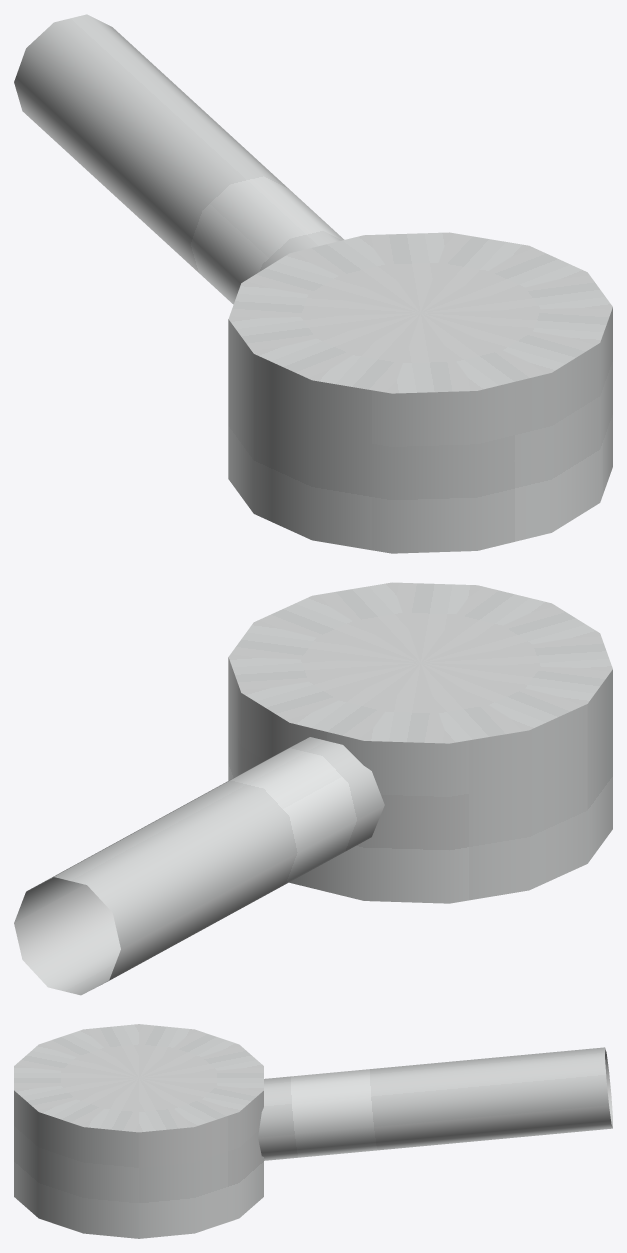
Rendered from trusssignalarm_level12_c1.obj.
3 views of the same model, one above another, from view 1: azimuth 30°, elevation 25°; view 2: azimuth 150°, elevation 25°; view 3: azimuth 270°, elevation 25° (orthographic). The views are drawn at different scales.
Visible parts, largest first — view 1: trusssignalarm_level12_c1; view 2: trusssignalarm_level12_c1; view 3: trusssignalarm_level12_c1.
Boxes of the visible parts, x1,y1,x2,y2 form: trusssignalarm_level12_c1: (14,14,612,553); trusssignalarm_level12_c1: (14,582,612,995); trusssignalarm_level12_c1: (14,1024,612,1238).
Bounding box in the file's own units: 0.8188 × 0.4648 × 1.91.
